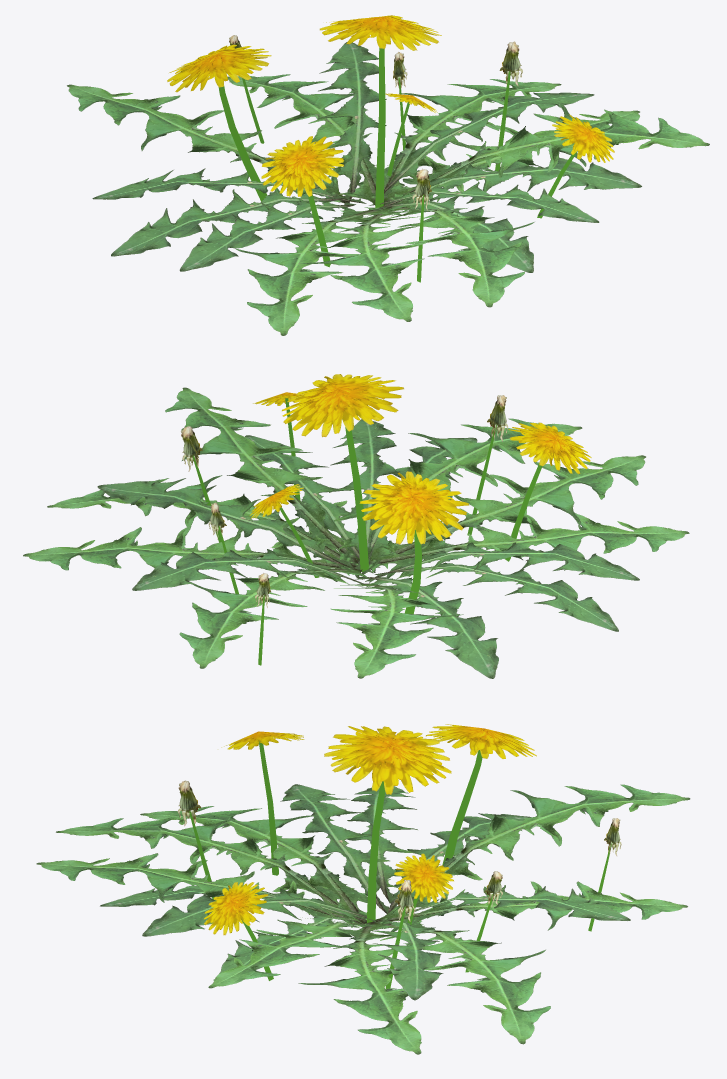
Rendered from m_flower01.fbx.
3 views of the same model, one above another, from view 1: azimuth 30°, elevation 25°; view 2: azimuth 150°, elevation 25°; view 3: azimuth 270°, elevation 25° (orthographic). The views are drawn at different scales.
Visible parts, largest first — view 1: mesh_flower01; view 2: mesh_flower01; view 3: mesh_flower01.
Part boxes in pixels (bbox=[...]): mesh_flower01: bbox=[67, 15, 709, 335]; mesh_flower01: bbox=[23, 374, 689, 678]; mesh_flower01: bbox=[36, 724, 690, 1054].
Bounding box in the file's own units: 0.4999 × 0.1629 × 0.5234.
